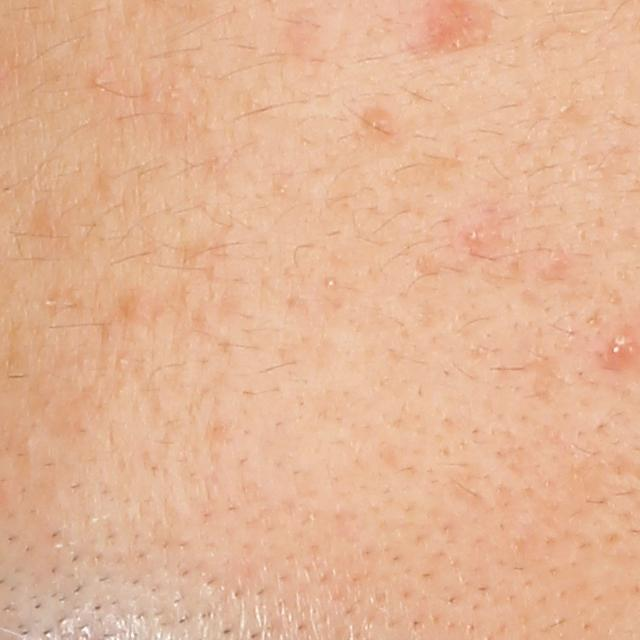comedo: (90, 74, 105, 86)
